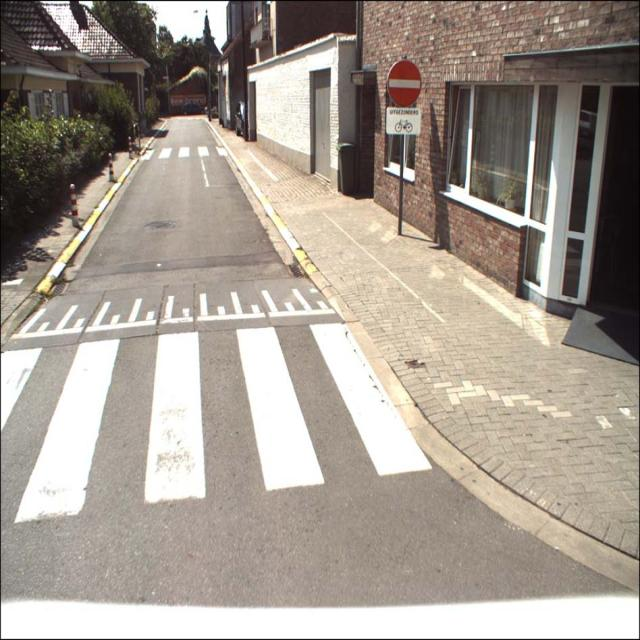girisyok: (387, 61, 422, 107)
